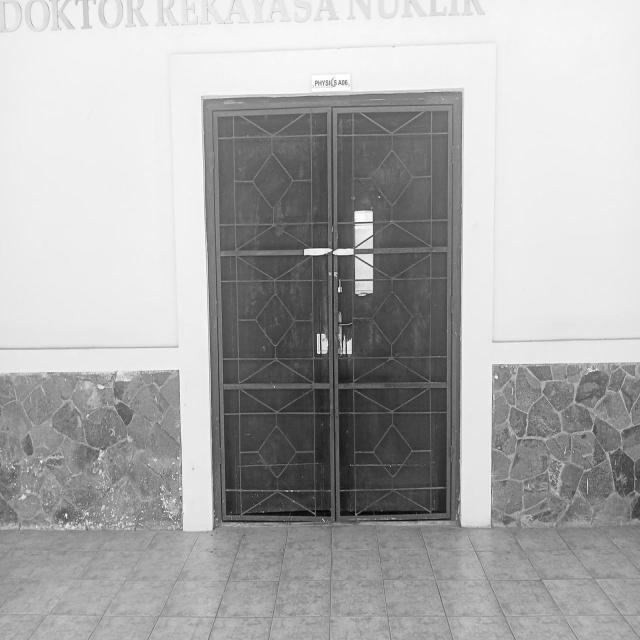door: (198, 90, 464, 529)
